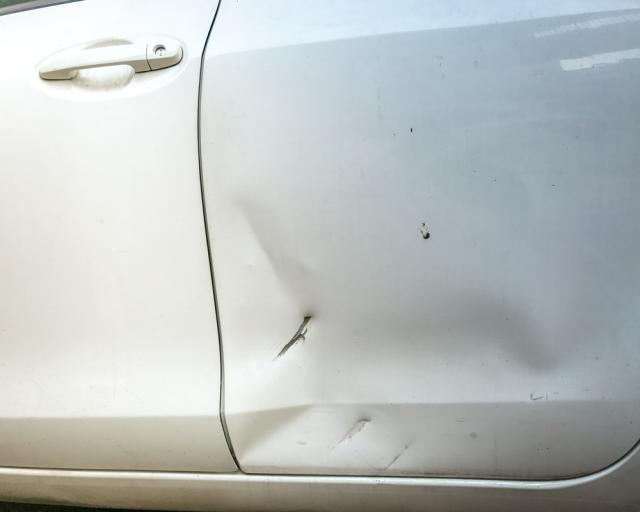dent: (214, 179, 633, 477)
